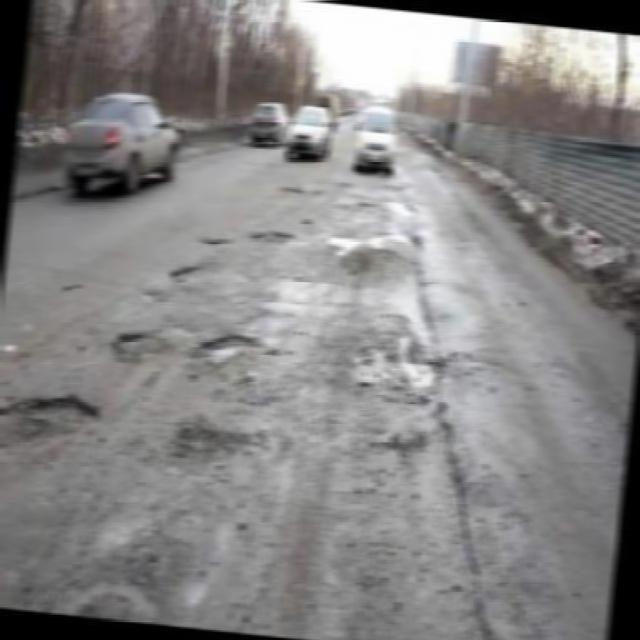Pothole: (339, 315, 452, 456), (154, 417, 288, 471), (0, 395, 106, 445), (138, 256, 202, 312), (317, 227, 422, 257), (198, 328, 260, 374), (246, 227, 302, 251), (112, 328, 151, 362), (334, 198, 378, 214), (201, 232, 231, 248), (276, 181, 306, 196)
